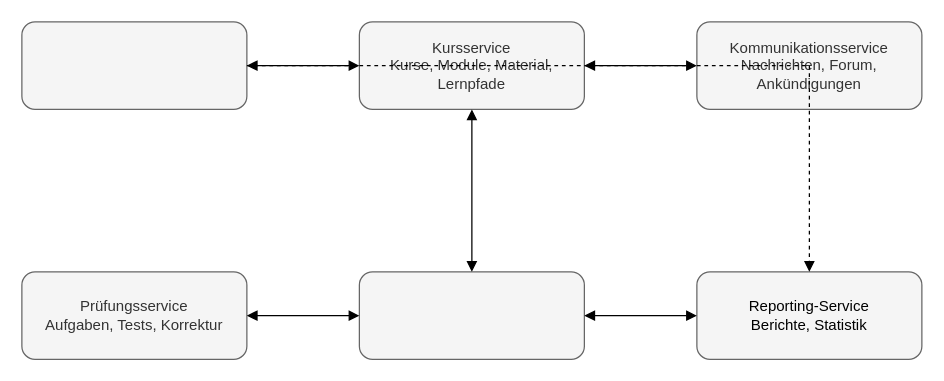
Some shapes in this 944 by 381 pixel diagram are drawn without their labels. Here are the shapes that lost their labels. From the top down, the centre of each, then its label:
point (134, 65): Benutzerservice Accounts, Rollen, Login
point (471, 315): Fortschrittsservice Ergebnisse, Verlauf
